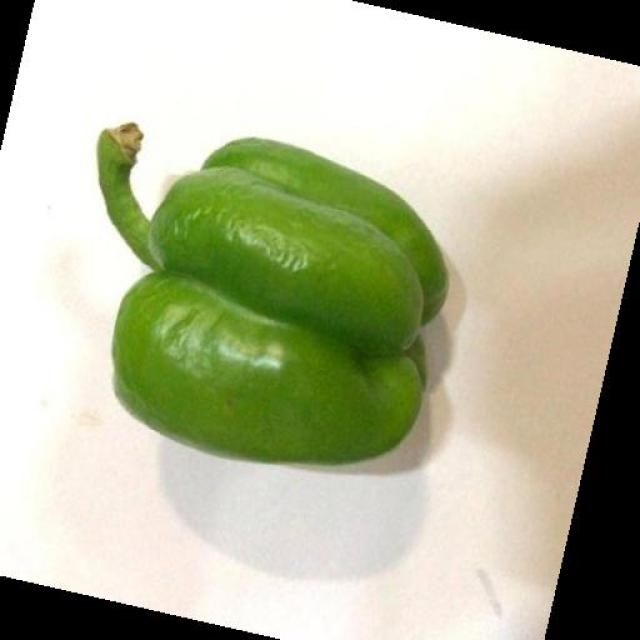Fresh_Capsicum: (84, 100, 432, 454)
